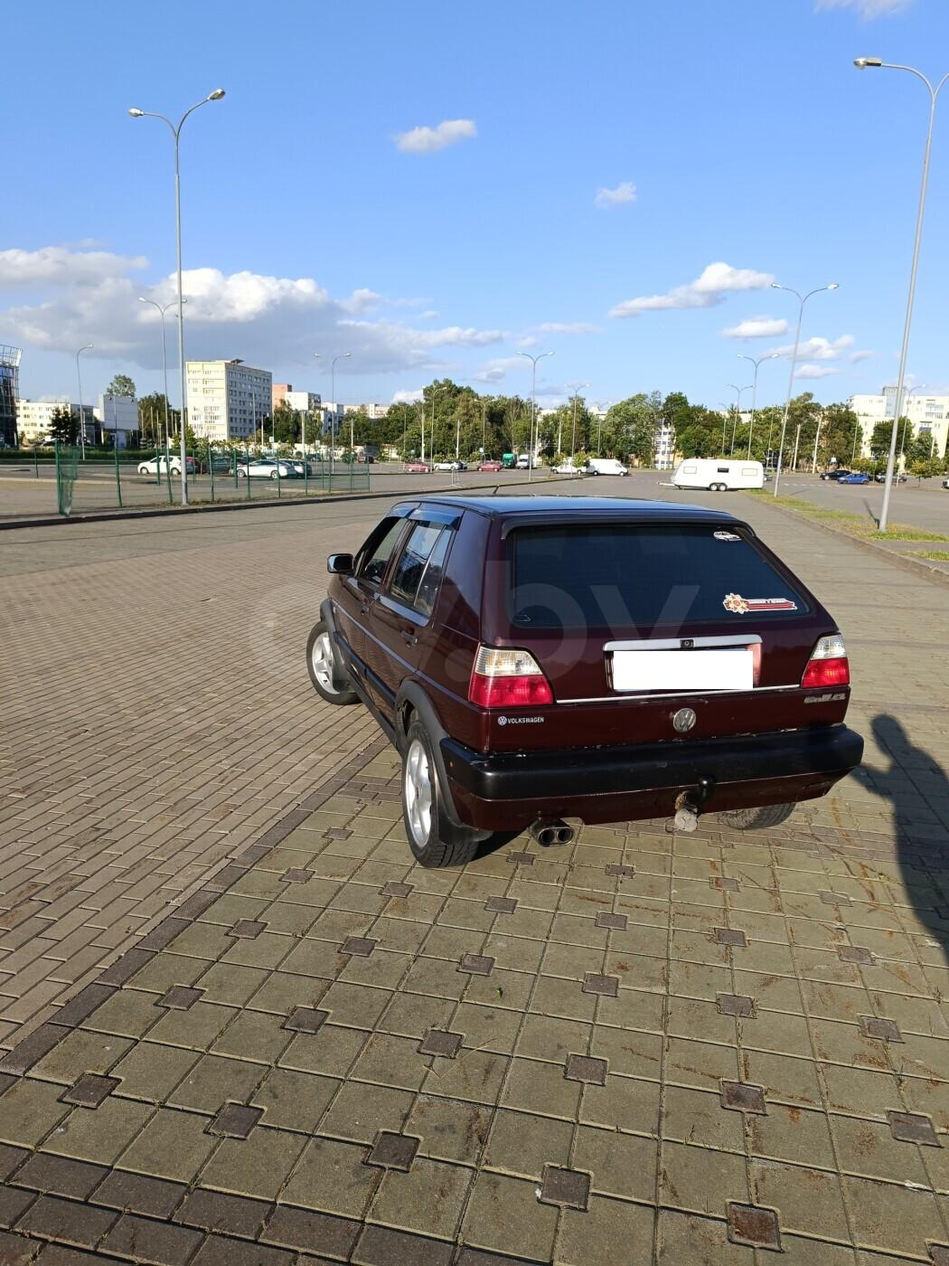Golf_1983-1992: (302, 494, 873, 874)
